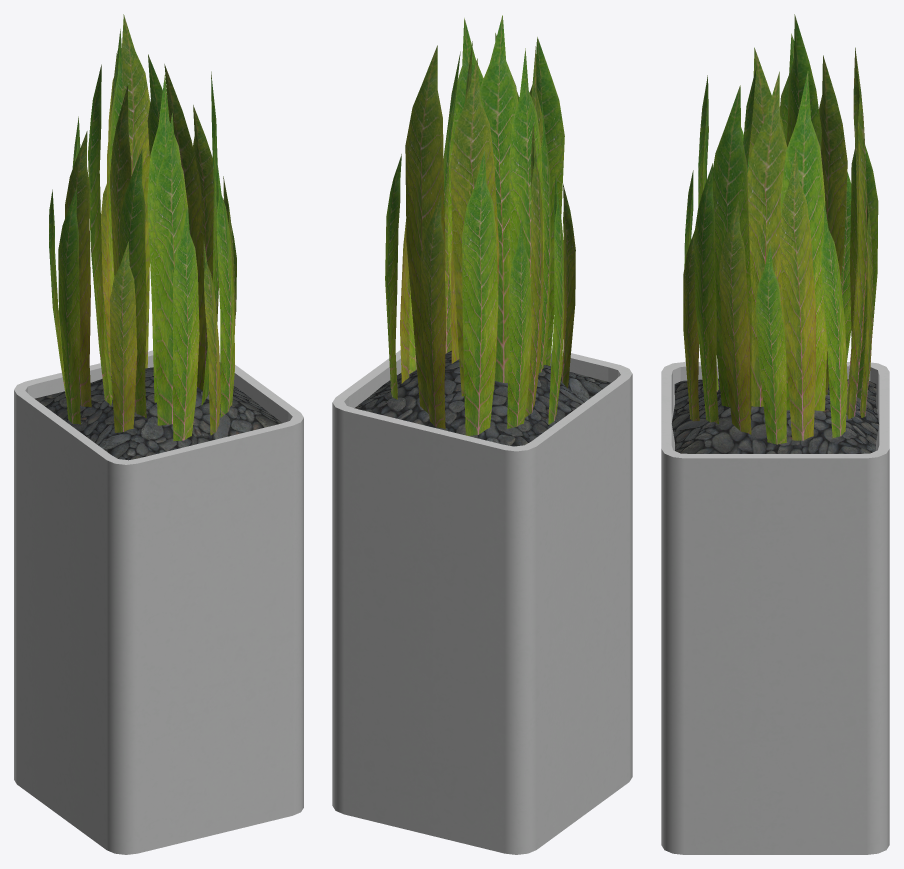
Rendered from SM_plant_pot_a_big.fbx.
3 views of the same model, side by side, from view 1: azimuth 30°, elevation 25°; view 2: azimuth 150°, elevation 25°; view 3: azimuth 270°, elevation 25° (orthographic). The views are drawn at different scales.
Parts seen in each view (by area): view 1: polySurface504, polySurface505; view 2: polySurface504, polySurface505; view 3: polySurface504, polySurface505.
Part boxes in pixels (left/top/right/bottom): polySurface504: left=14, top=350, right=303, bottom=854; polySurface505: left=35, top=14, right=282, bottom=460; polySurface504: left=332, top=348, right=632, bottom=854; polySurface505: left=354, top=15, right=610, bottom=446; polySurface504: left=661, top=362, right=889, bottom=854; polySurface505: left=671, top=14, right=879, bottom=453.
Bounding box in the file's own units: 0.4688 × 1.77 × 0.4688.
